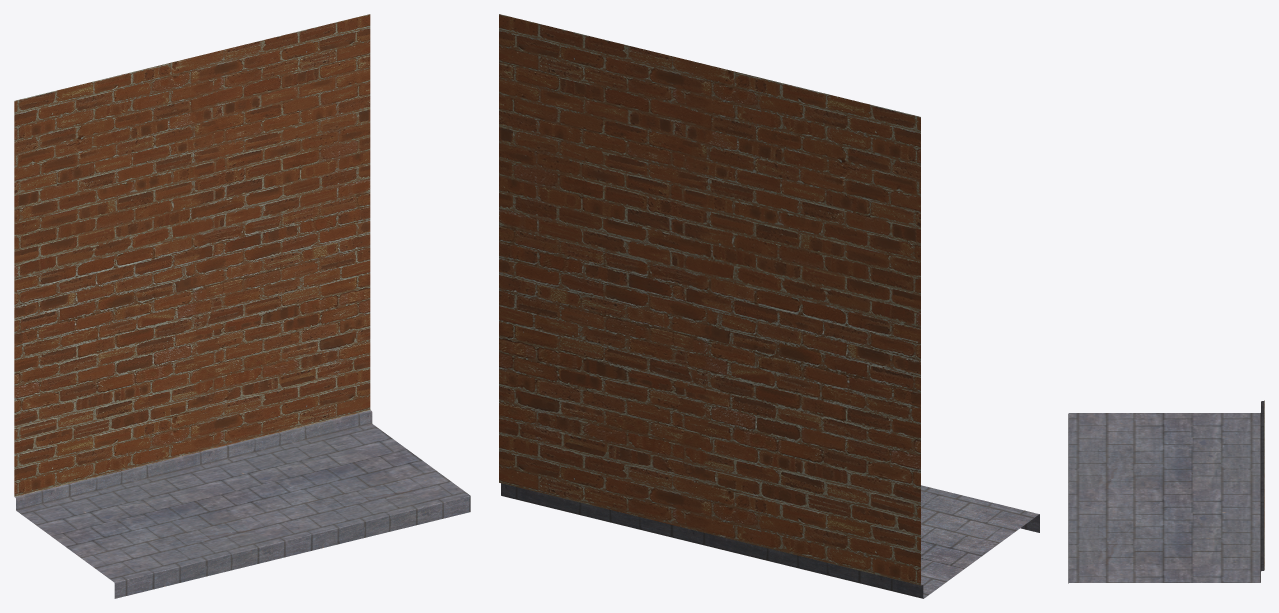
File: Sidewalk_Wall_Straight_LPivot.fbx
3 renders of one model, left to right at view 1: azimuth 30°, elevation 25°; view 2: azimuth 150°, elevation 25°; view 3: azimuth 270°, elevation 25°, orthographic. The views are drawn at different scales.
Parts seen in each view (by area): view 1: Sidewalk_Wall_Segement_LPivot; view 2: Sidewalk_Wall_Segement_LPivot; view 3: Sidewalk_Wall_Segement_LPivot.
Part boxes in pixels (bbox=[...]): Sidewalk_Wall_Segement_LPivot: bbox=[14, 14, 470, 598]; Sidewalk_Wall_Segement_LPivot: bbox=[499, 14, 1039, 598]; Sidewalk_Wall_Segement_LPivot: bbox=[1068, 400, 1264, 583].
Size of the model in its own units: 390 by 444 by 190.
2 materials, 2 textured.
